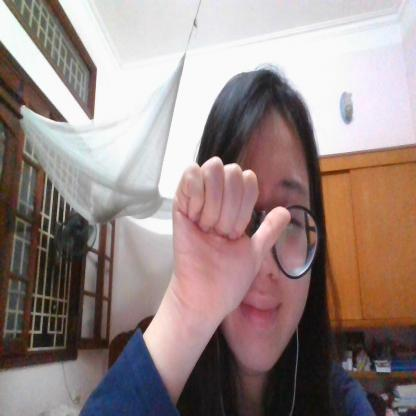left: (172, 154, 292, 322)
